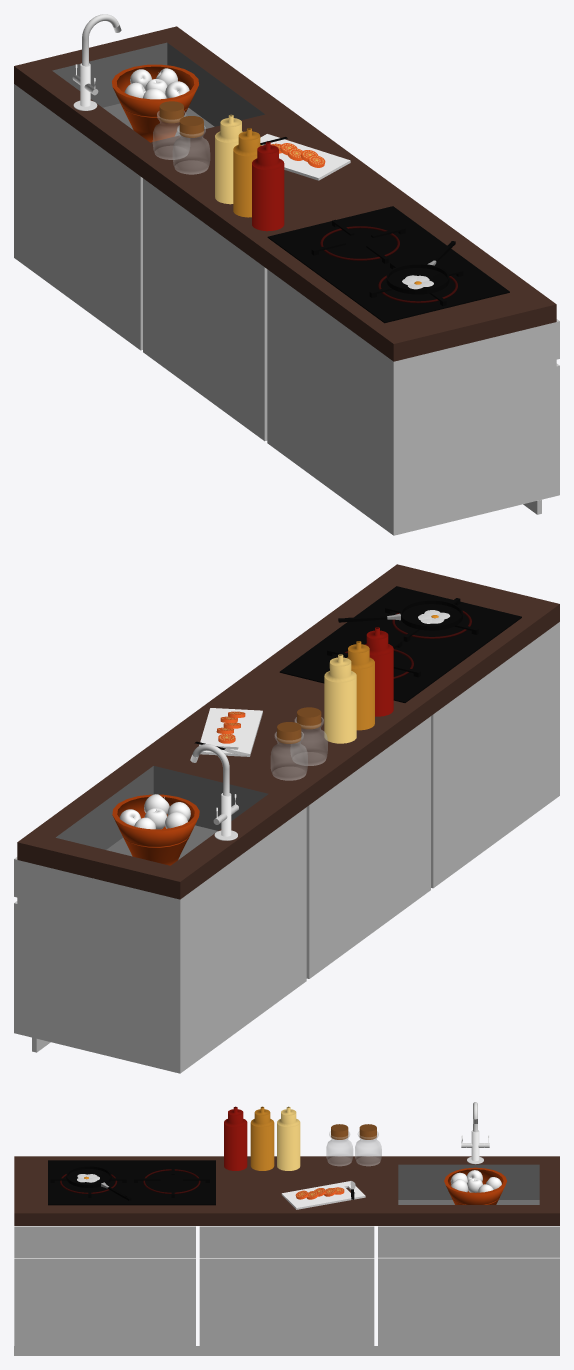
Rendered from kitchenFurniture.glb.
The picture shows the model from 3 angles, top to bottom: view 1: azimuth 30°, elevation 25°; view 2: azimuth 150°, elevation 25°; view 3: azimuth 270°, elevation 25°; orthographic projection. The views are drawn at different scales.
Parts seen in each view (by area): view 1: Cube.017, Cube.016, Plane.001, Cube.018, Cylinder.050, Cylinder.052, Cylinder.053, Cylinder.054, apple, Cylinder.063, Cube.037, Circle.003 (+1 smaller); view 2: Cube.017, Cube.016, Plane.001, Cube.018, Cylinder.050, Cylinder.054, Cube.037, Cylinder.052, Cylinder.053, apple, Cylinder.061, Circle.003 (+1 smaller); view 3: Cube.017, Cube.016, Plane.001, Cube.018, Cylinder.053, Cylinder.052, Cylinder.054, Cylinder.050, Cube.037, apple, Cylinder.063, Cylinder.061 (+2 smaller).
Boxes of the visible parts, x1,y1,x2,y2 form: Cube.017: [14, 84, 559, 535]; Cube.016: [14, 26, 556, 361]; Plane.001: [267, 206, 509, 323]; Cube.018: [52, 42, 264, 136]; Cylinder.050: [112, 64, 198, 142]; Cylinder.052: [252, 141, 284, 231]; Cylinder.053: [233, 128, 261, 217]; Cylinder.054: [215, 114, 242, 204]; apple: [124, 68, 189, 99]; Cylinder.063: [173, 125, 209, 174]; Cube.037: [260, 134, 350, 180]; Circle.003: [386, 263, 449, 294]; Cube.017: [14, 622, 559, 1073]; Cube.016: [17, 564, 559, 899]; Plane.001: [279, 586, 521, 702]; Cube.018: [56, 766, 268, 859]; Cylinder.050: [112, 794, 199, 865]; Cylinder.054: [324, 654, 356, 743]; Cube.037: [199, 708, 262, 756]; Cylinder.052: [365, 627, 393, 716]; Cylinder.053: [347, 641, 374, 730]; apple: [119, 794, 190, 829]; Cylinder.061: [271, 732, 307, 780]; Circle.003: [400, 599, 462, 630]; Cube.017: [14, 1226, 559, 1355]; Cube.016: [14, 1156, 559, 1225]; Plane.001: [48, 1160, 215, 1205]; Cube.018: [398, 1164, 539, 1204]; Cylinder.053: [250, 1106, 274, 1170]; Cylinder.052: [224, 1106, 247, 1170]; Cylinder.054: [277, 1106, 300, 1170]; Cylinder.050: [444, 1167, 506, 1204]; Cube.037: [281, 1181, 365, 1209]; apple: [450, 1170, 501, 1192]; Cylinder.063: [326, 1131, 352, 1165]; Cylinder.061: [355, 1131, 381, 1165].
Bounding box in the file's own units: 0.0418 × 0.0704 × 0.1656.
